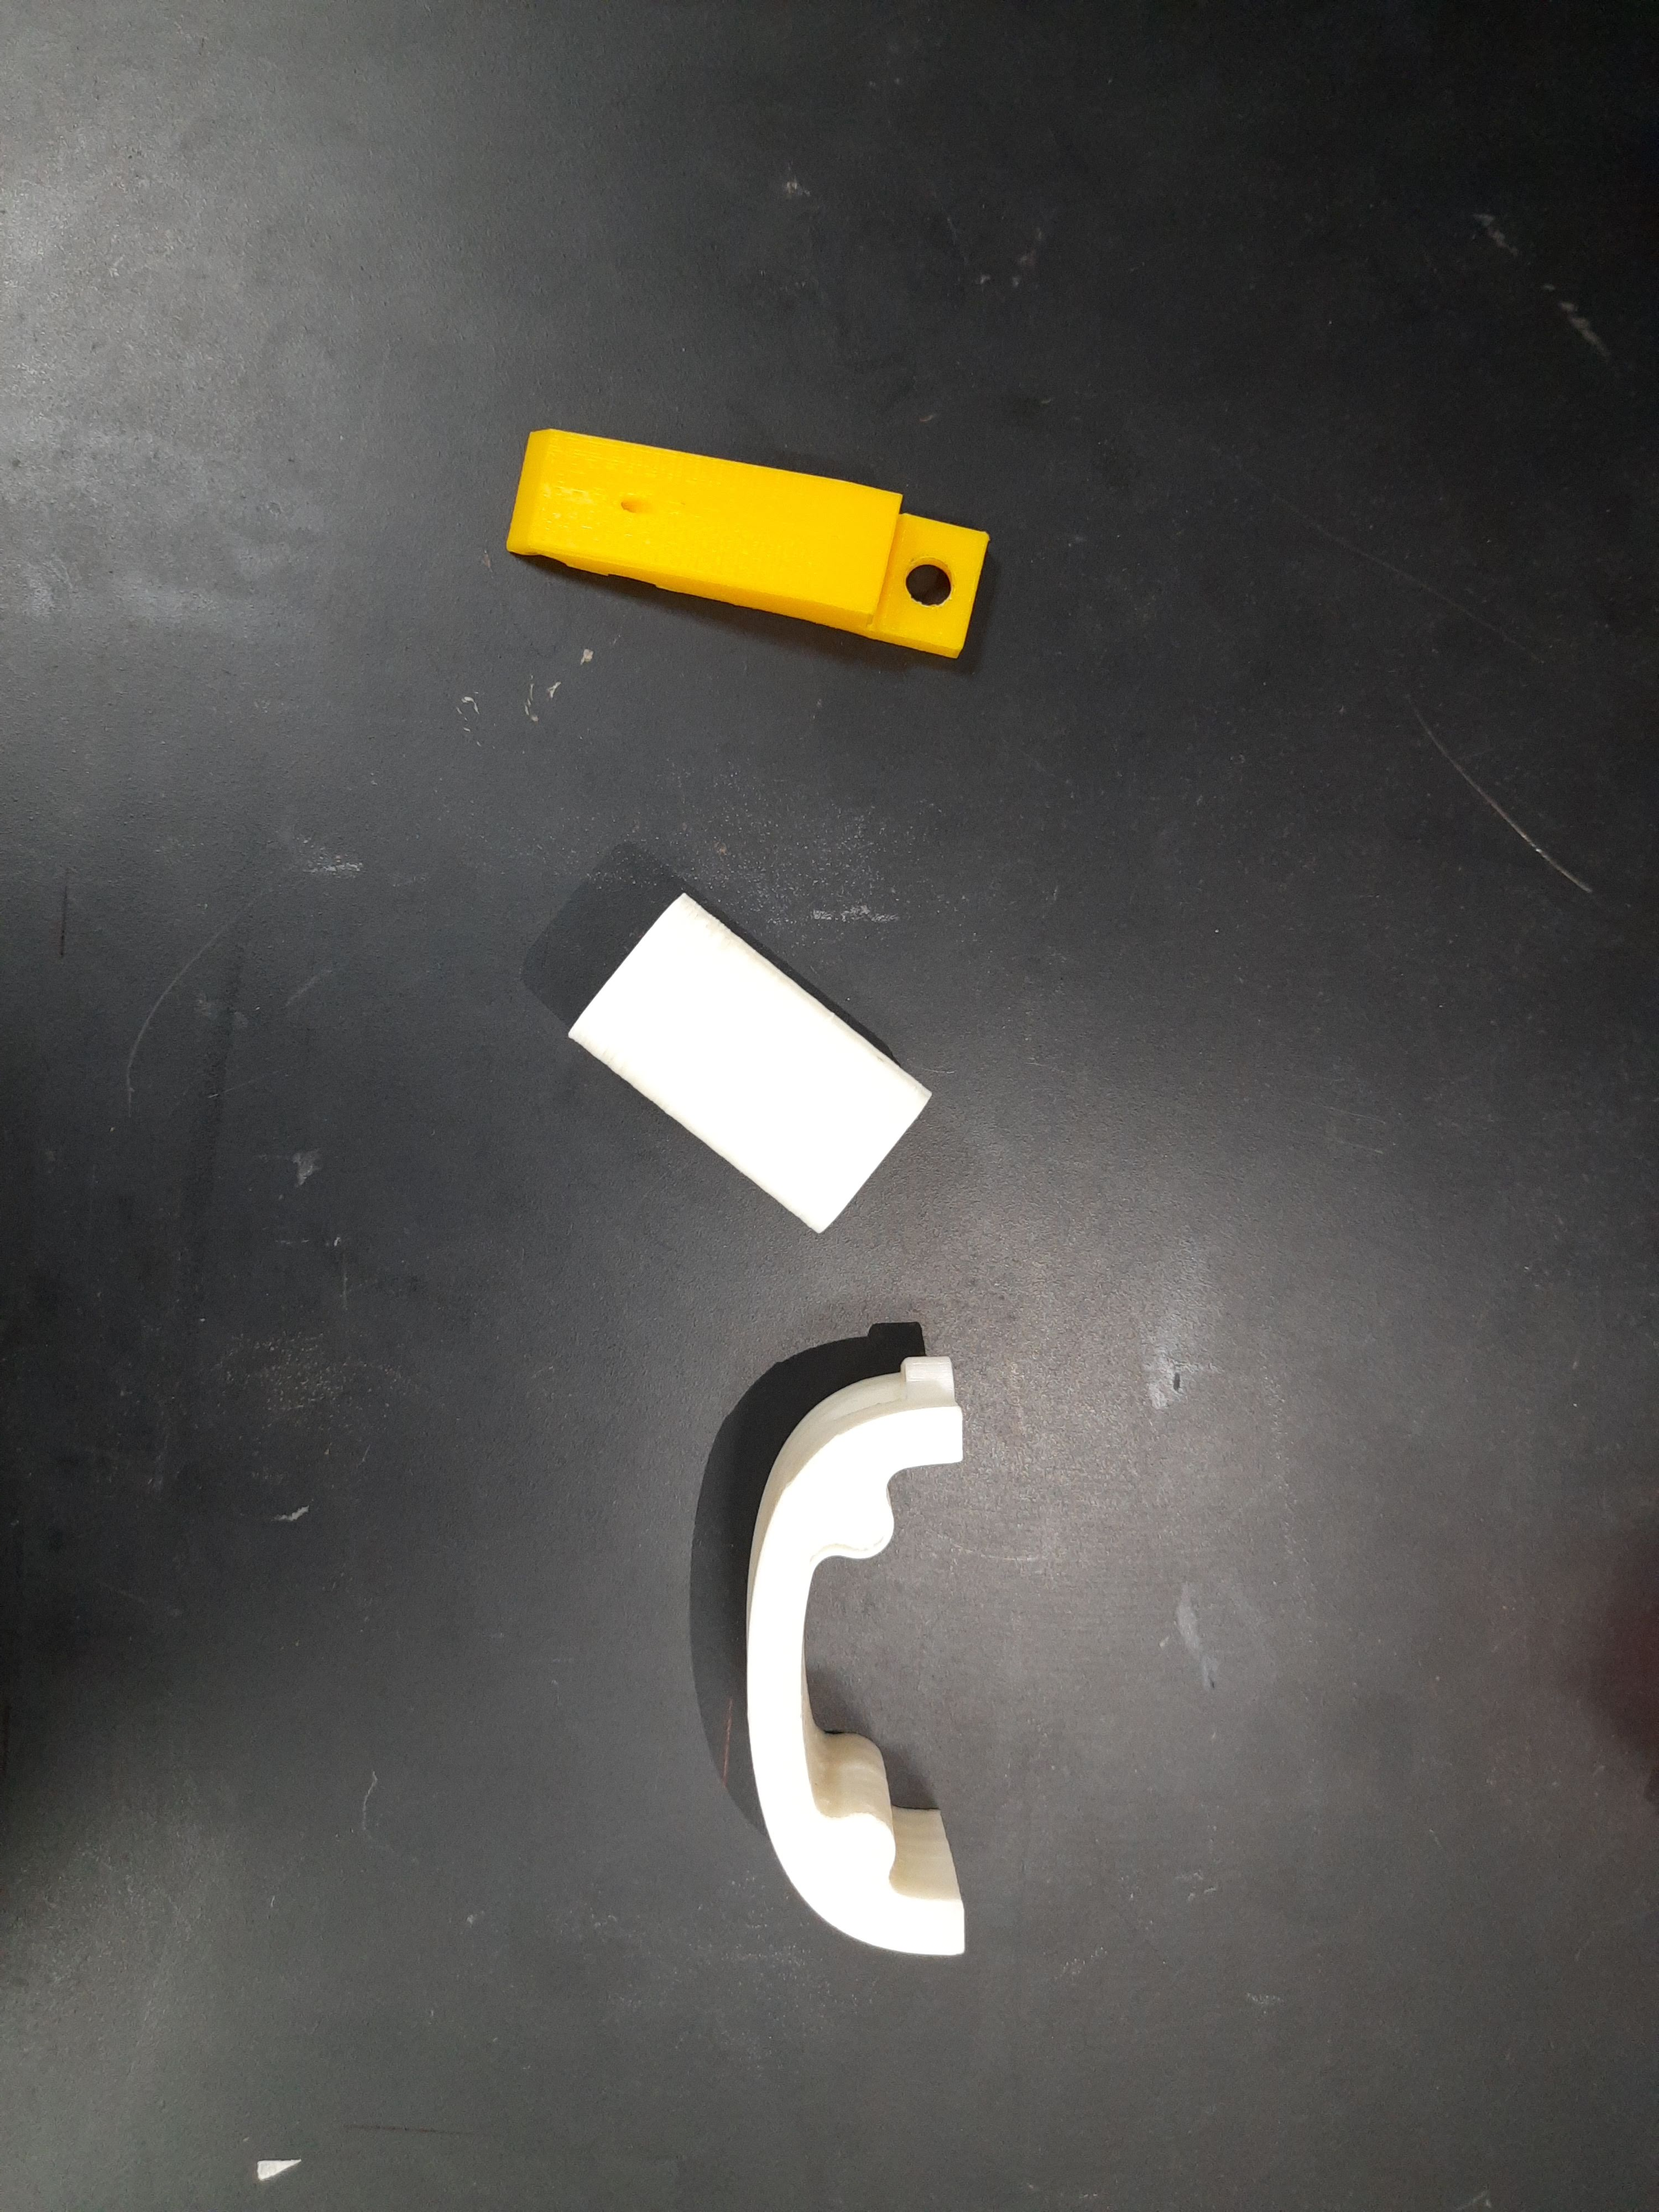ARC: (742, 1348, 971, 1968)
CUBE: (568, 888, 938, 1233)
YELLOW: (502, 413, 997, 653)
